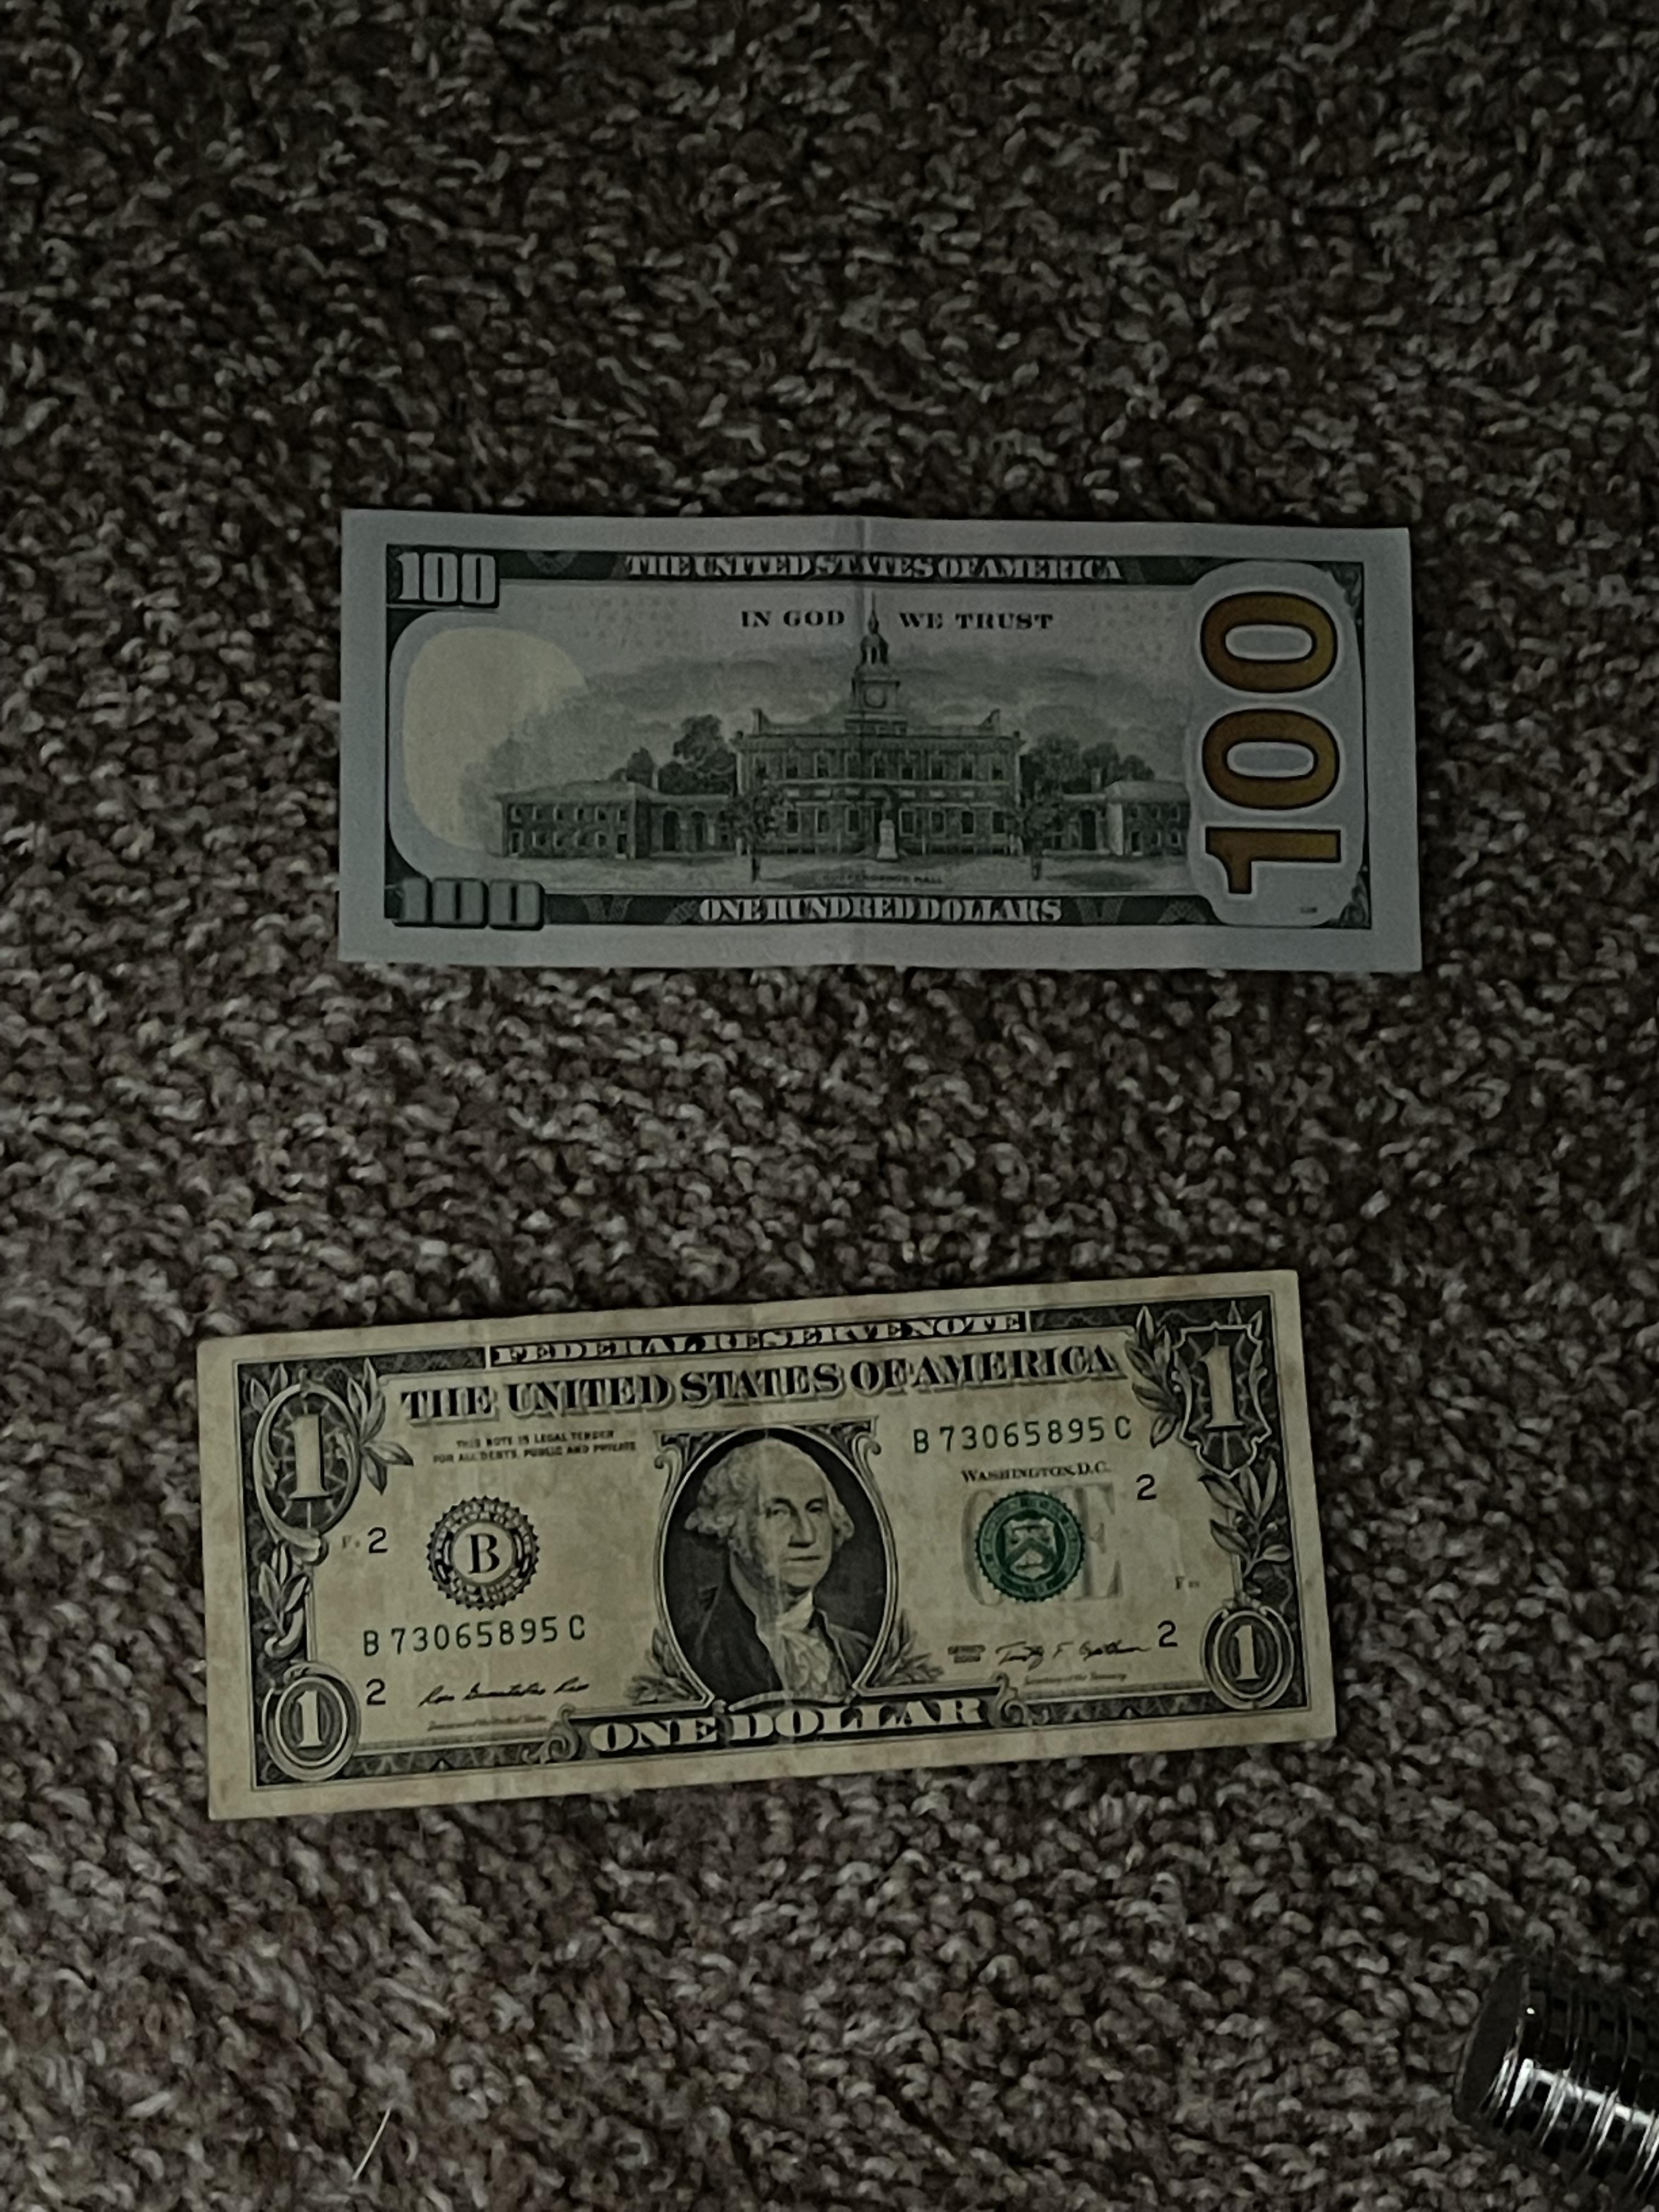HundredBill: (338, 505, 1425, 977)
OneBill: (193, 1266, 1342, 1825)
